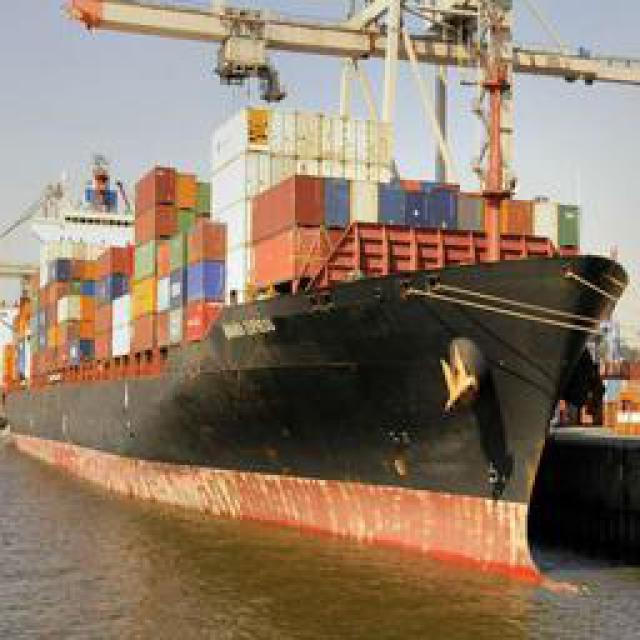Ship: (1, 1, 640, 596)
